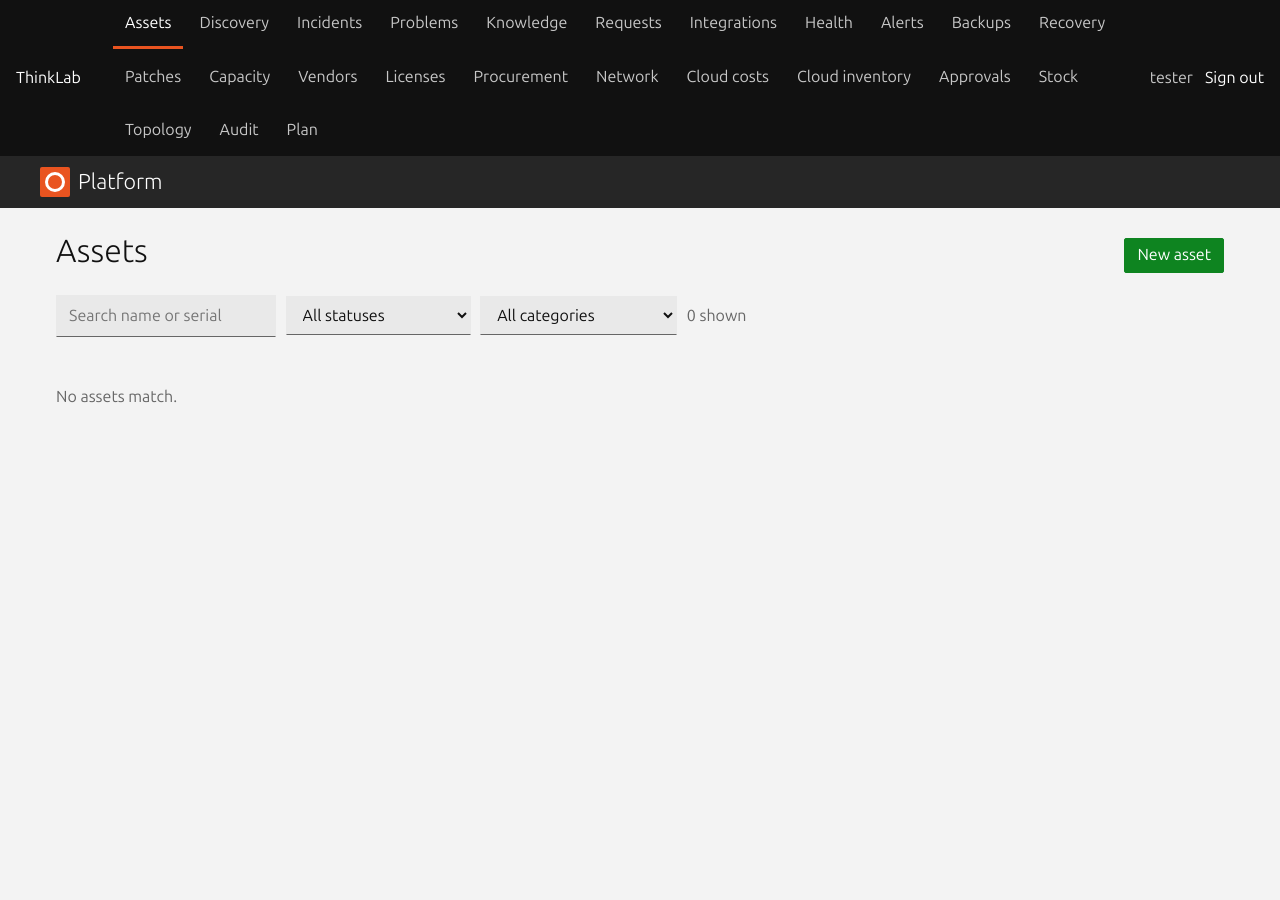
Test: App routing › shows the navigation for a signed-in user and signs out
Expected: the heading "Assets" is shown, [56,232,148,270]
Click the button "Sign out": {"x": 1234, "y": 78} [1205,66,1264,90]
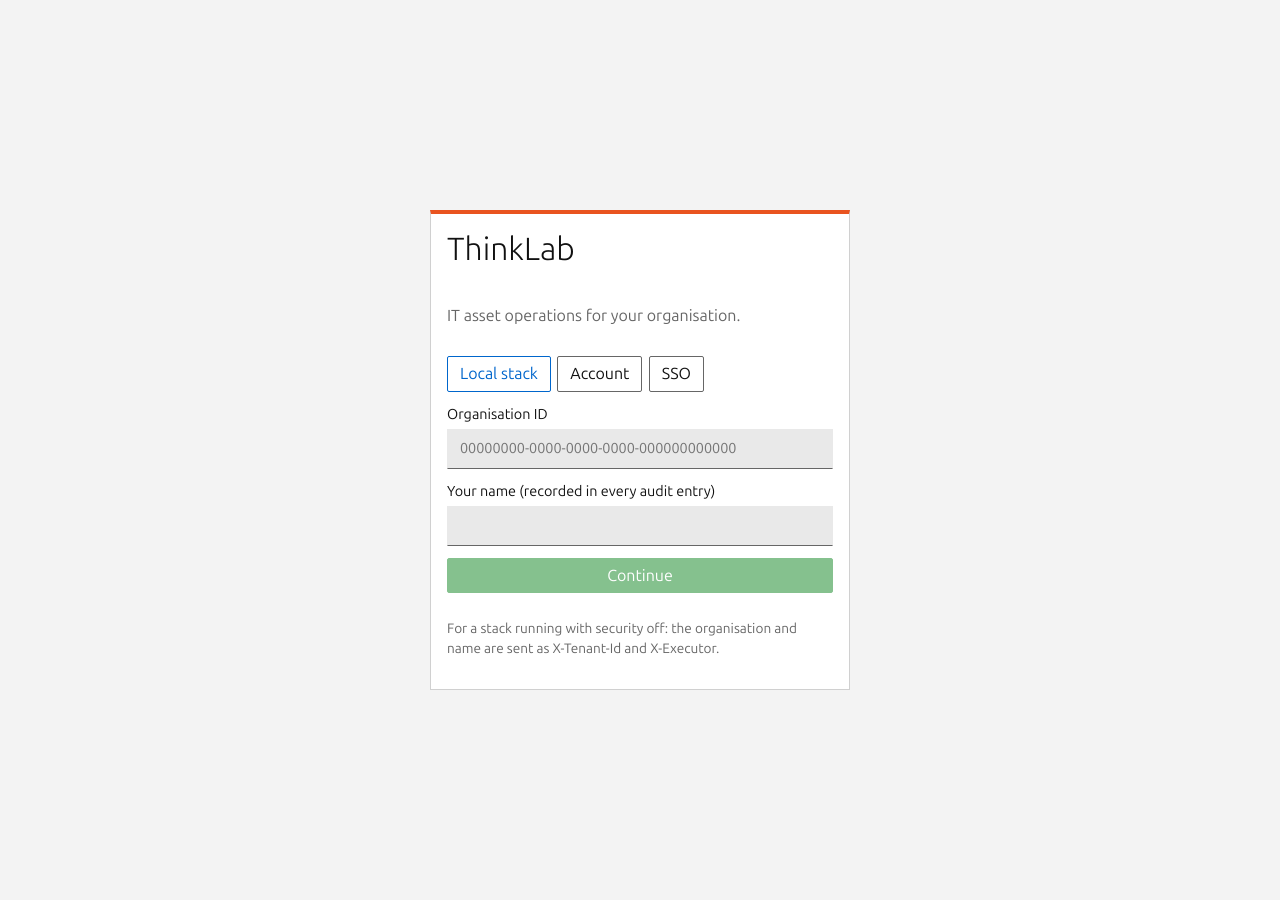
Expected: the button "Continue" is shown, [447,558,833,594]
